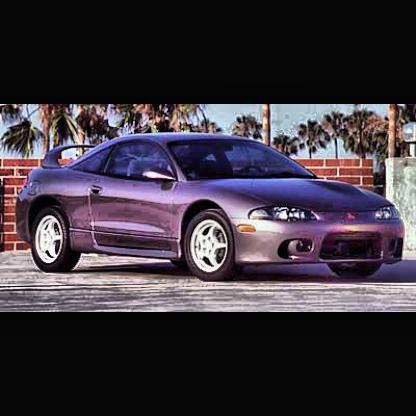Eagle Talon Hatchback 1998: (15, 133, 407, 282)
